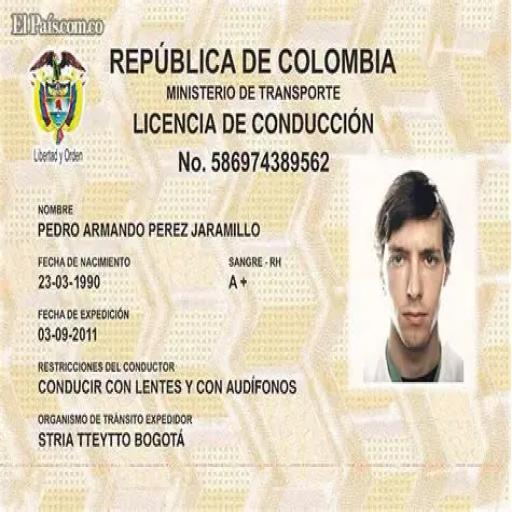colombia: (108, 43, 404, 78)
escudo de colombia: (20, 44, 100, 174)
fechaexpedicion: (34, 324, 114, 346)
fechanacimiento: (36, 273, 108, 296)
foto: (376, 166, 462, 366)
ministerio de transporte: (158, 80, 350, 103)
nombre: (33, 222, 269, 240)
numerolic: (206, 150, 342, 175)
tarjeta conduccion: (0, 0, 508, 510)
titulo licencia: (125, 107, 380, 139)
